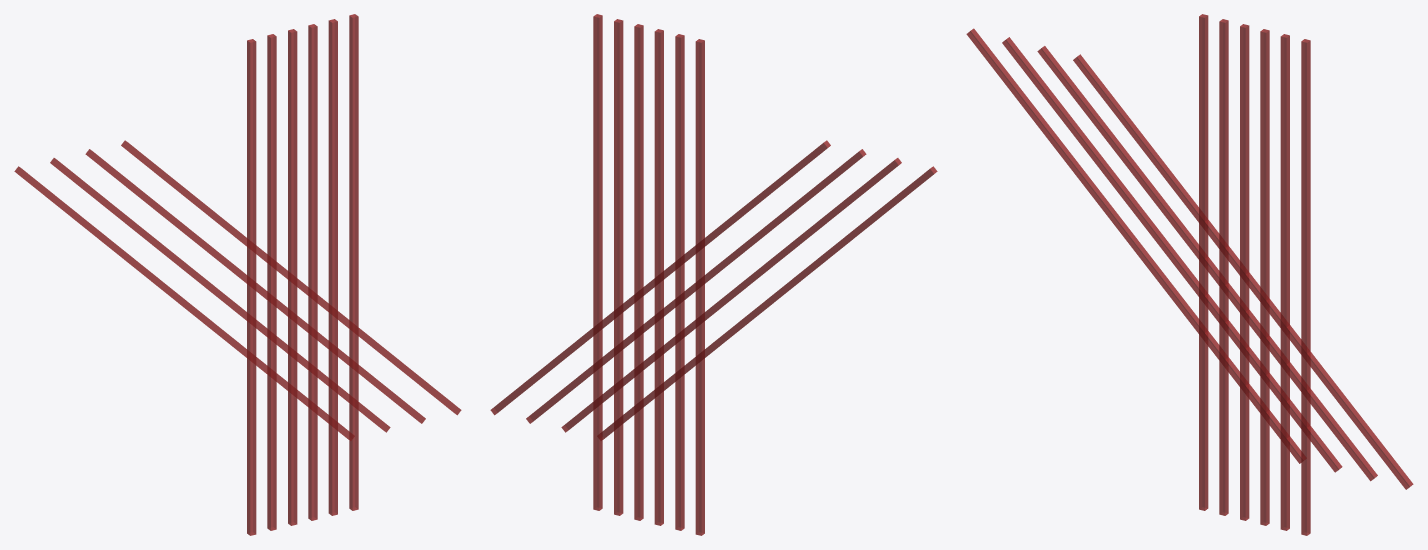
Rendered from Lvl_009.fbx.
3 renders of one model, left to right at view 1: azimuth 30°, elevation 25°; view 2: azimuth 150°, elevation 25°; view 3: azimuth 330°, elevation 25°, orthographic.
Parts seen in each view (by area): view 1: pCube9, pCube10, pCube11, pCube8, pCube2, pCube7, pCube6, pCube48, pCube47, pCube49; view 2: pCube9, pCube10, pCube8, pCube2, pCube11, pCube7, pCube48, pCube49, pCube47, pCube6; view 3: pCube48, pCube47, pCube49, pCube6, pCube2, pCube10, pCube8, pCube7, pCube11, pCube9.
Boxes of the visible parts, box(x1,y1,x2,y2) form: pCube9: box(288, 29, 297, 525); pCube10: box(267, 34, 276, 530); pCube11: box(247, 39, 256, 535); pCube8: box(308, 24, 317, 520); pCube2: box(349, 14, 358, 510); pCube7: box(328, 19, 337, 515); pCube6: box(121, 140, 461, 415); pCube48: box(50, 158, 390, 432); pCube47: box(85, 149, 425, 423); pCube49: box(14, 166, 354, 440); pCube9: box(654, 29, 663, 525); pCube10: box(675, 34, 684, 530); pCube8: box(634, 24, 643, 520); pCube2: box(593, 14, 602, 510); pCube11: box(695, 39, 704, 535); pCube7: box(614, 19, 623, 515); pCube48: box(561, 158, 901, 432); pCube49: box(597, 166, 937, 440); pCube47: box(526, 149, 866, 423); pCube6: box(490, 140, 830, 415); pCube48: box(1002, 37, 1342, 472); pCube47: box(1037, 46, 1377, 481); pCube49: box(966, 28, 1306, 463); pCube6: box(1073, 54, 1413, 489); pCube2: box(1301, 39, 1310, 535); pCube10: box(1219, 19, 1228, 515); pCube8: box(1260, 29, 1269, 525); pCube7: box(1280, 34, 1289, 530); pCube11: box(1199, 14, 1208, 510); pCube9: box(1240, 24, 1249, 520).
Bounding box in the file's own units: 1884 × 2000 × 25.
